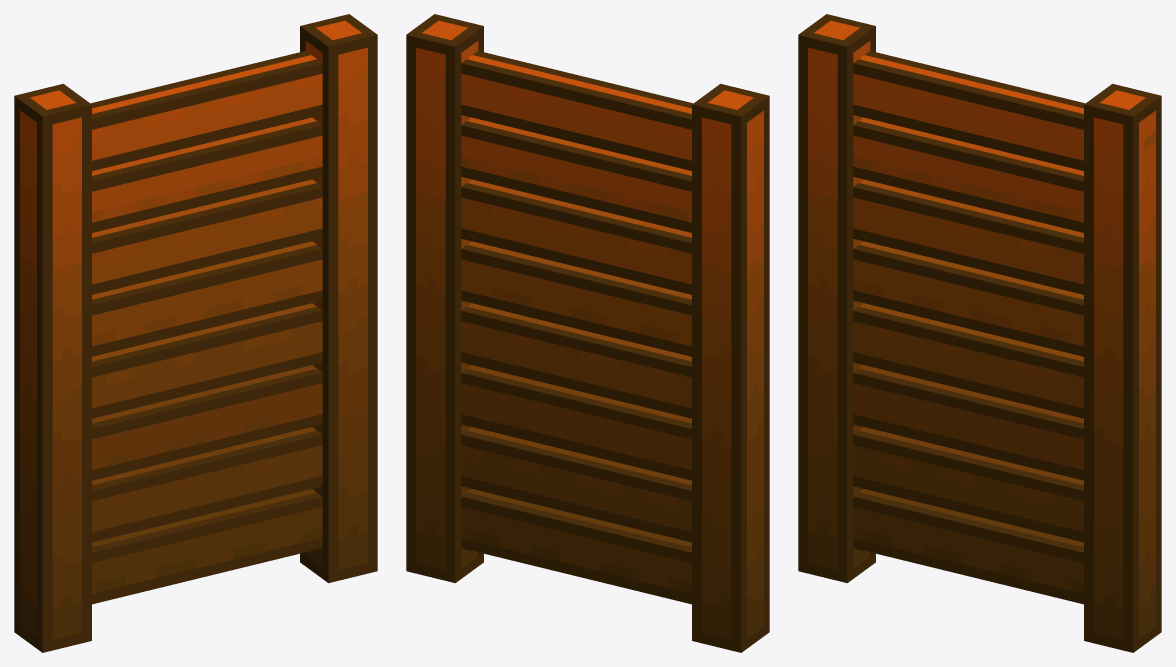
The model's file is Wall.fbx.
3 views of the same model, side by side, from view 1: azimuth 30°, elevation 25°; view 2: azimuth 150°, elevation 25°; view 3: azimuth 330°, elevation 25° (orthographic).
Visible parts, largest first — view 1: Wall; view 2: Wall; view 3: Wall.
Boxes of the visible parts, x1,y1,x2,y2 form: Wall: (14,14,377,652); Wall: (406,14,769,652); Wall: (798,14,1161,652).
Size of the model in its own units: 0.68 by 0.1 by 1.04.
1 material, 1 textured.
